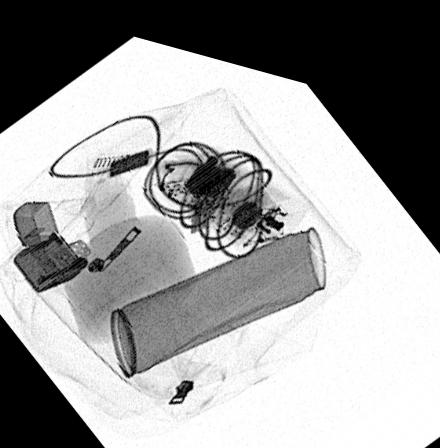Lighter: (12, 198, 92, 290)
